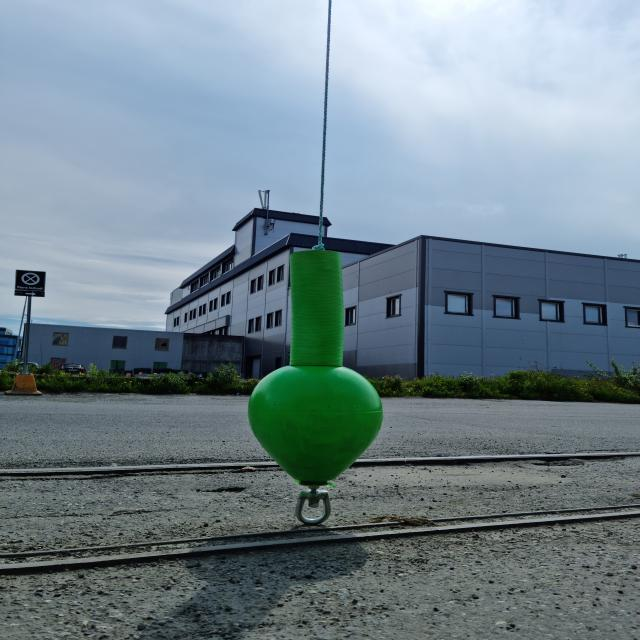green: (249, 254, 382, 486)
